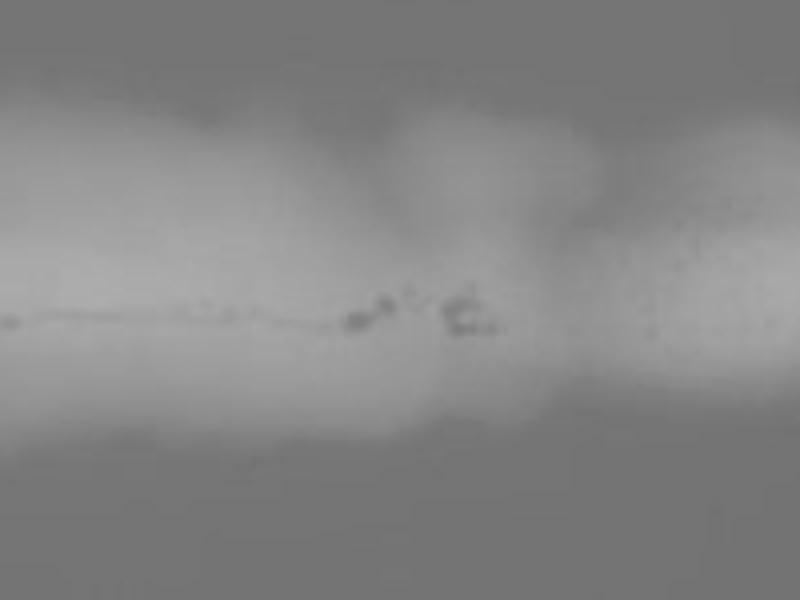defect: (439, 292, 495, 337), (401, 281, 432, 315), (338, 309, 373, 335), (371, 290, 401, 319)
